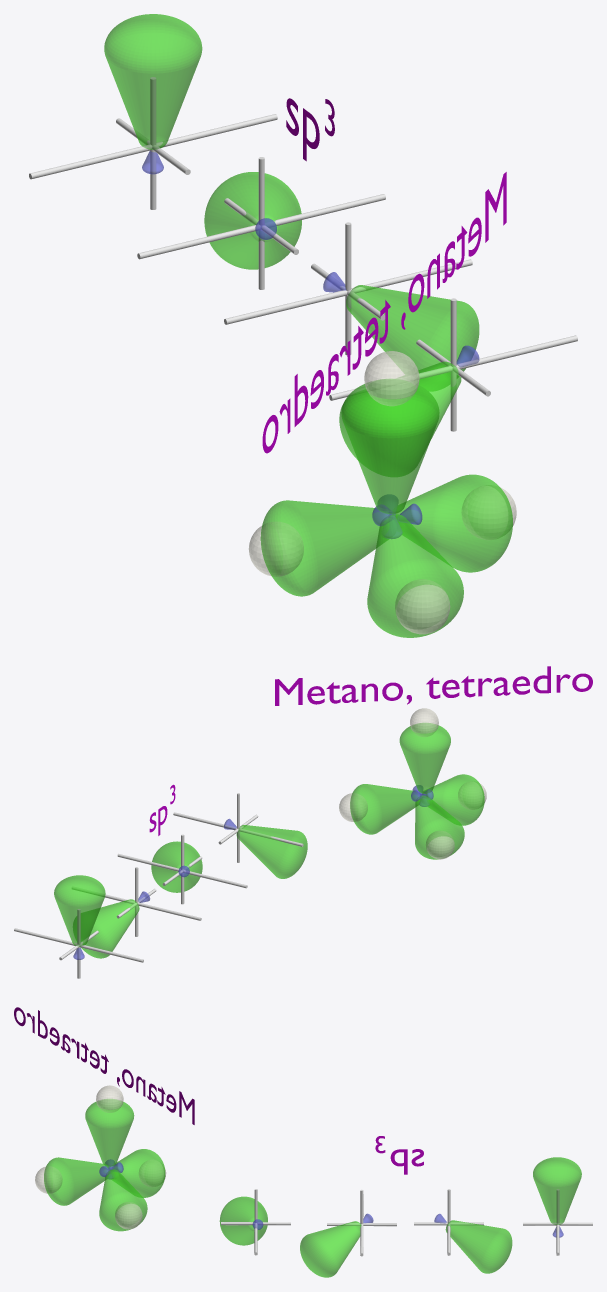
3 views of the same model, one above another, from view 1: azimuth 30°, elevation 25°; view 2: azimuth 150°, elevation 25°; view 3: azimuth 270°, elevation 25° (orthographic). The views are drawn at different scales.
Parts seen in each view (by area): view 1: suborbital p.007, suborbital p.017, suborbital p.013, suborbital p.011, suborbital p.015, suborbital p.009, suborbital p.003, suborbital p.005, Text.002, Sphere, Sphere.002, Sphere.004 (+9 smaller); view 2: Text.002, suborbital p.007, suborbital p.017, suborbital p.015, suborbital p.009, suborbital p.013, suborbital p.005, suborbital p.011, suborbital p.003, Sphere.004, Sphere, Sphere.003 (+5 smaller); view 3: suborbital p.005, suborbital p.007, suborbital p.003, suborbital p.017, suborbital p.011, suborbital p.015, suborbital p.013, Text.002, suborbital p.009, Sphere, Sphere.003, Sphere.002 (+2 smaller).
Boxes of the visible parts, x1,y1,x2,y2 form: suborbital p.007: (104,14,202,149); suborbital p.017: (341,379,439,514); suborbital p.013: (260,500,389,596); suborbital p.011: (367,514,463,637); suborbital p.015: (396,474,512,572); suborbital p.009: (339,361,461,476); suborbital p.003: (346,285,479,390); suborbital p.005: (204,172,301,269); Text.002: (262,172,506,453); Sphere: (364,351,419,405); Sphere.002: (395,579,450,634); Sphere.004: (248,521,303,576); Text.002: (275,666,592,705); suborbital p.007: (54,875,105,946); suborbital p.017: (399,723,450,793); suborbital p.015: (350,784,419,834); suborbital p.009: (236,825,307,878); suborbital p.013: (415,795,464,859); suborbital p.005: (73,899,139,958); suborbital p.011: (423,774,484,825); suborbital p.003: (151,841,202,892); Sphere.004: (426,831,454,859); Sphere: (410,708,438,736); Sphere.003: (339,793,367,821); suborbital p.005: (445,1220,512,1273); suborbital p.007: (533,1157,581,1224); suborbital p.003: (300,1221,361,1277); suborbital p.017: (85,1099,134,1166); suborbital p.011: (44,1157,108,1205); suborbital p.015: (99,1169,147,1231); suborbital p.013: (111,1149,165,1197); Text.002: (14,1007,194,1124); suborbital p.009: (219,1196,267,1245); Sphere: (96,1085,123,1112); Sphere.003: (115,1202,142,1229); Sphere.002: (35,1166,62,1193).
Bounding box in the file's own units: 7.78 × 4.32 × 14.
